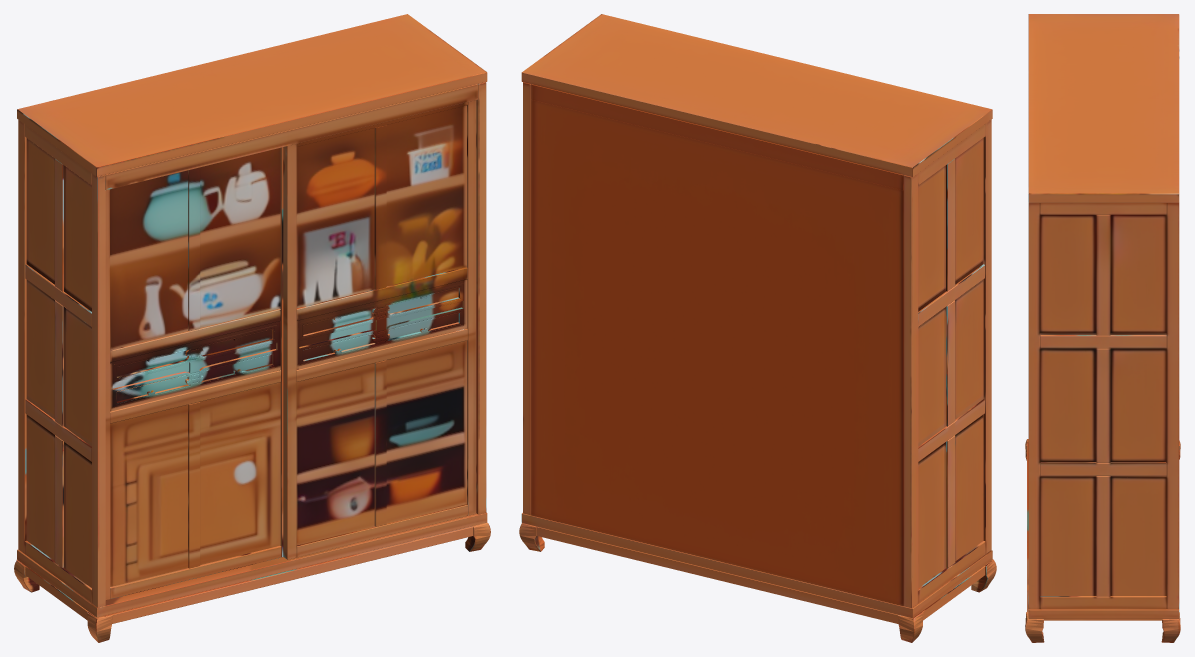
Rendered from edited_mesh.glb.
3 views of the same model, side by side, from view 1: azimuth 30°, elevation 25°; view 2: azimuth 150°, elevation 25°; view 3: azimuth 270°, elevation 25° (orthographic). The views are drawn at different scales.
Visible parts, largest first — view 1: normalized_model.obj; view 2: normalized_model.obj; view 3: normalized_model.obj.
Boxes of the visible parts, box(x1,y1,x2,y2) form: normalized_model.obj: box(14, 14, 490, 642); normalized_model.obj: box(519, 14, 996, 642); normalized_model.obj: box(1025, 14, 1180, 642).
Size of the model in its own units: 1.21 by 1.4 by 0.4358.
Materials: 1 (1 with a texture image).
